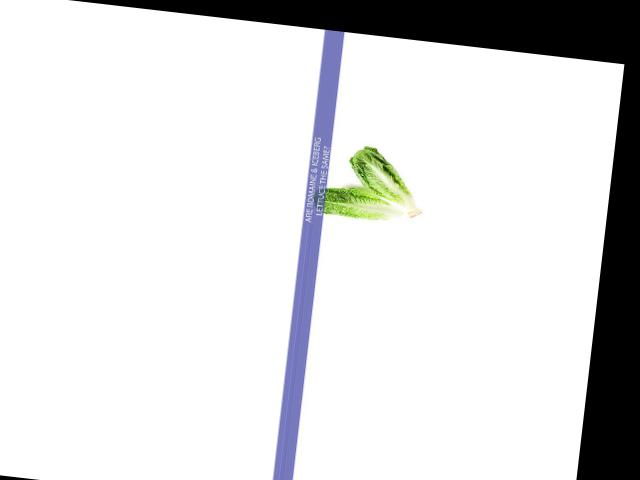lettuce: (339, 147, 438, 219)
